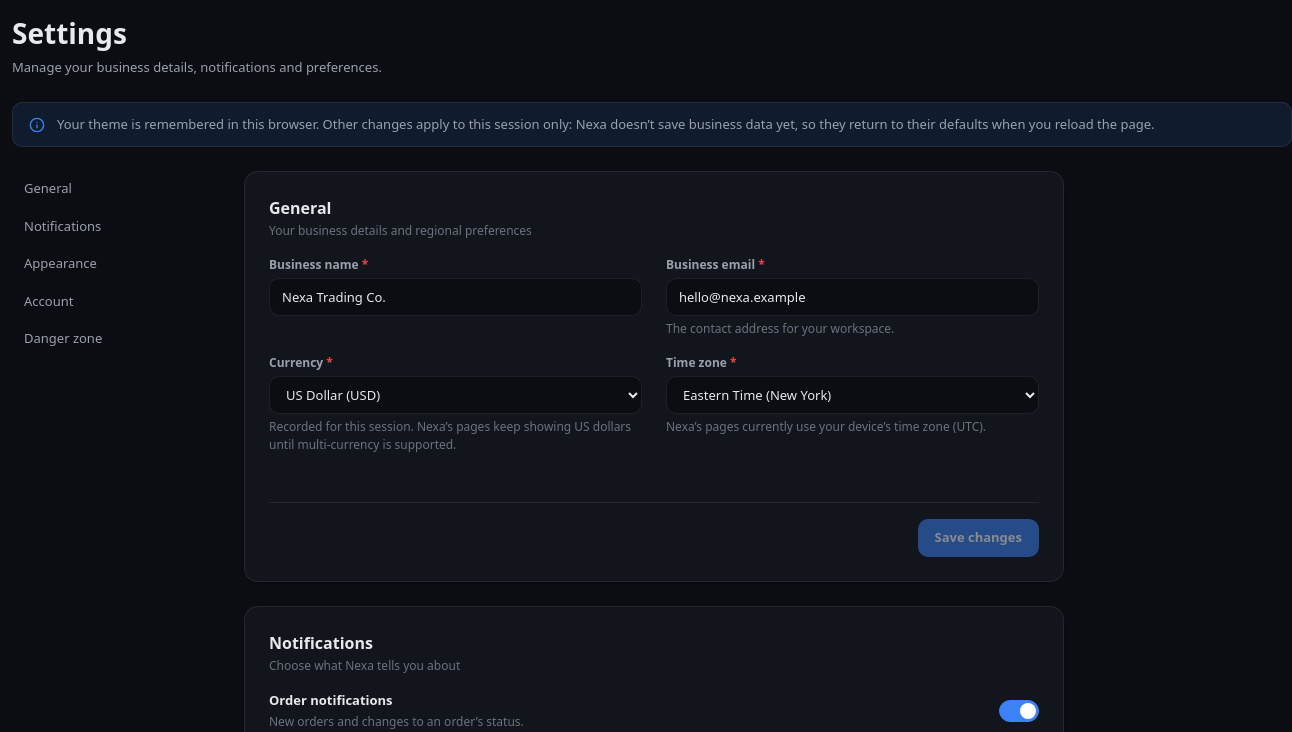
General settings › Discard puts the saved values back
Replace the text in the field labelled "Business name" with "Changed" at (456, 297), box x1=269 y1=278 x2=642 y2=316
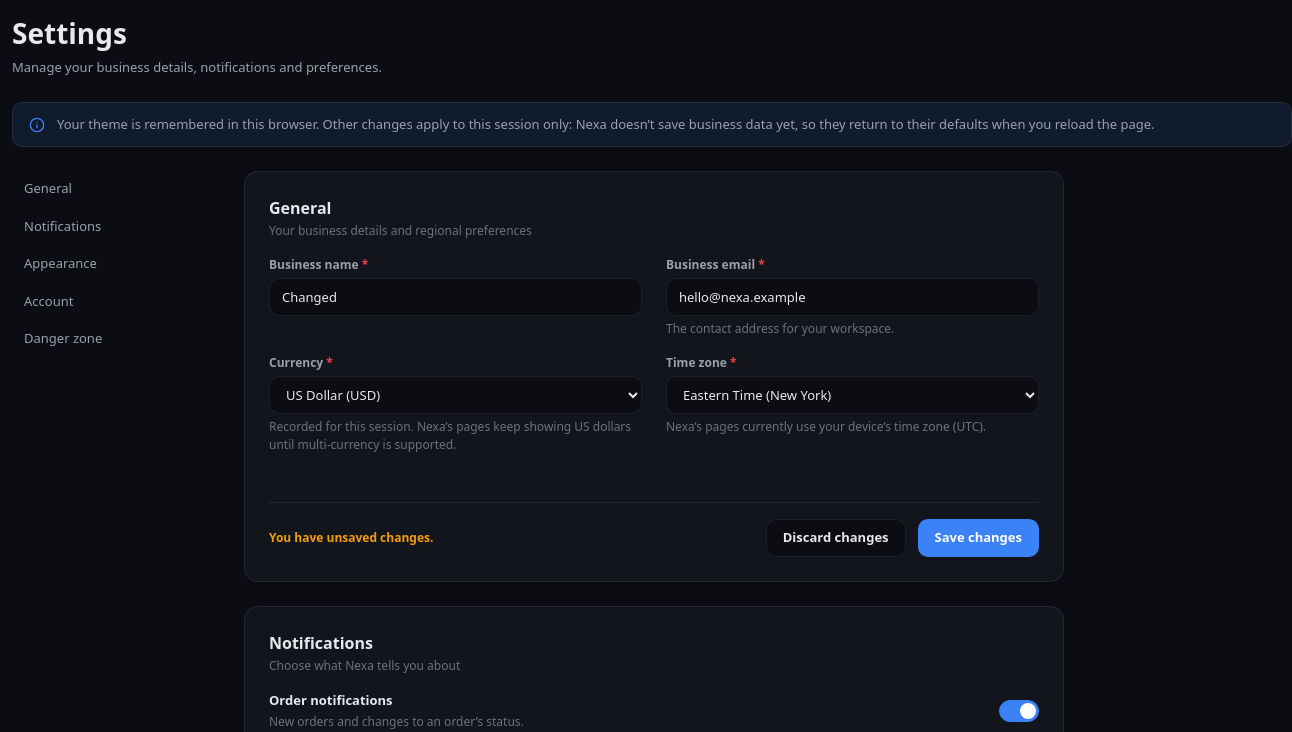
Select "British Pound (GBP)" in the dropdown labelled "Currency" at (456, 395), box x1=269 y1=376 x2=642 y2=414
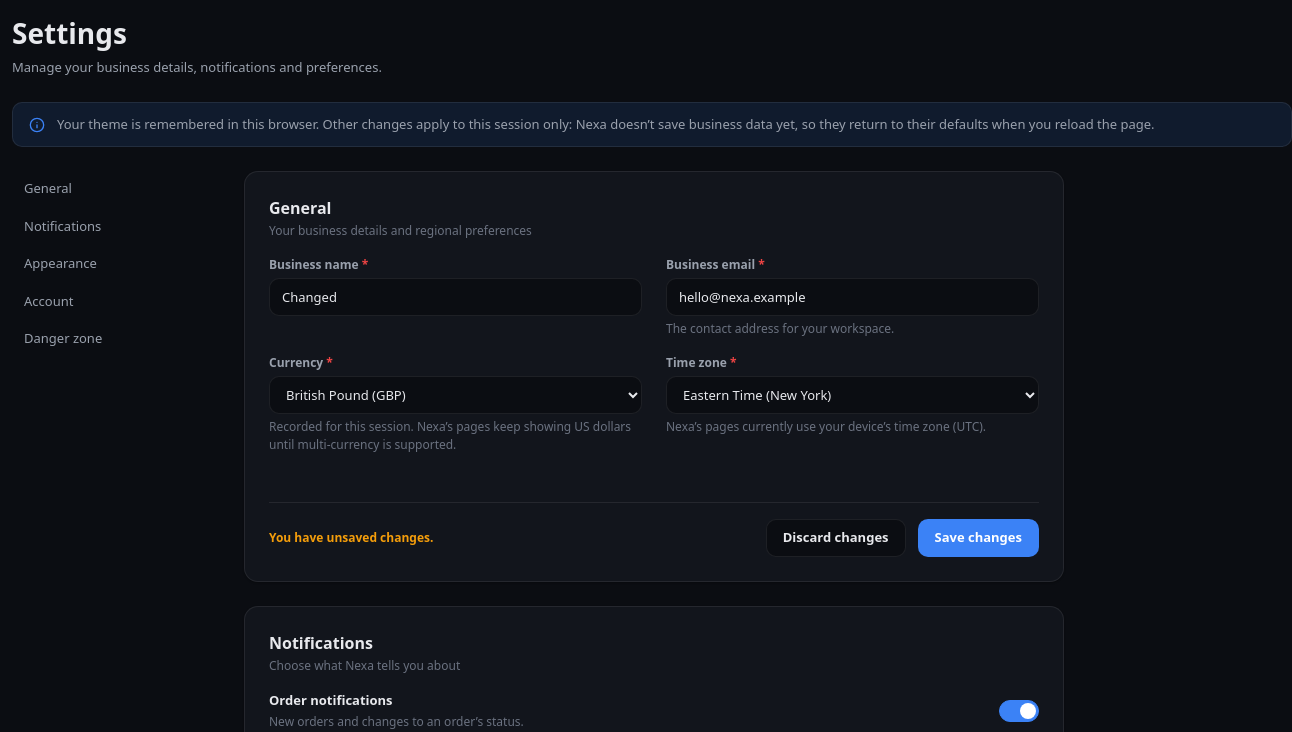
Click the button "Discard changes" at (836, 538), box x1=766 y1=519 x2=906 y2=557
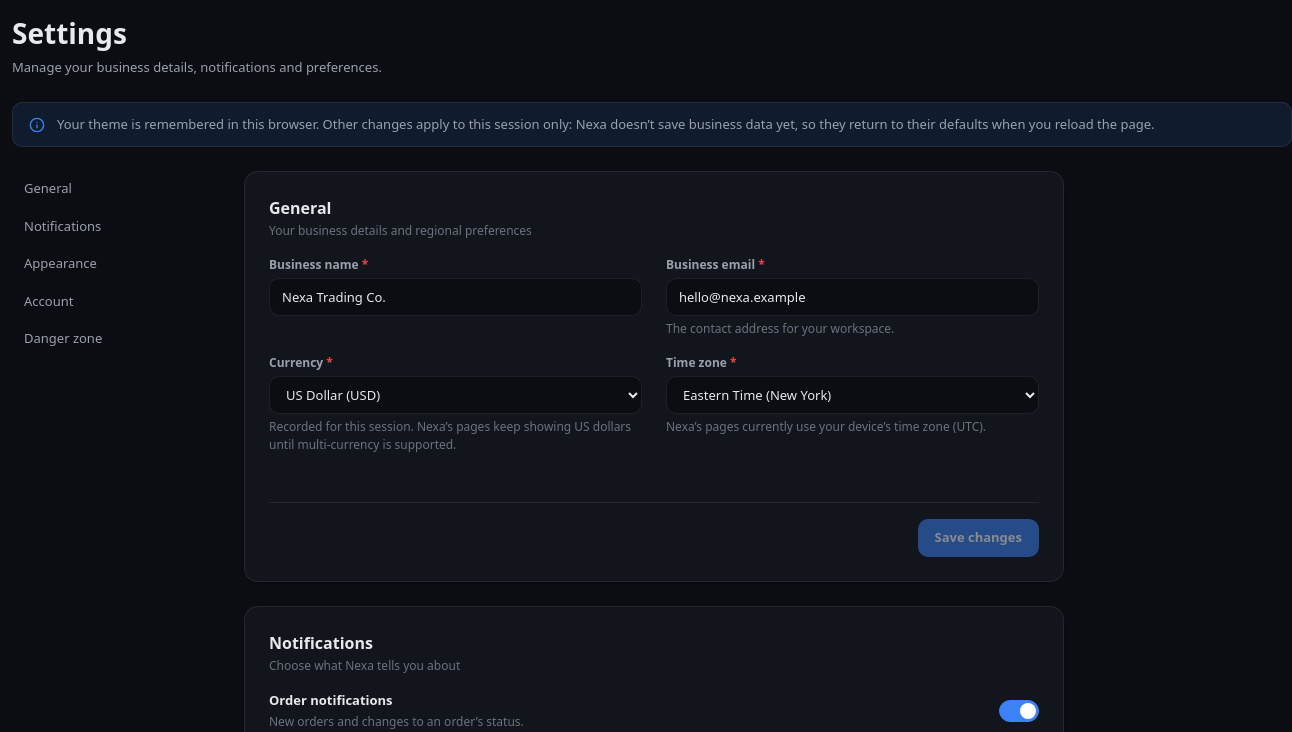
Expected: the field labelled "Business name" holds "Nexa Trading Co.", x1=269 y1=278 x2=642 y2=316
Expected: the button "Save changes" is disabled, x1=918 y1=519 x2=1039 y2=557
Expected: the button "Discard changes" is gone
